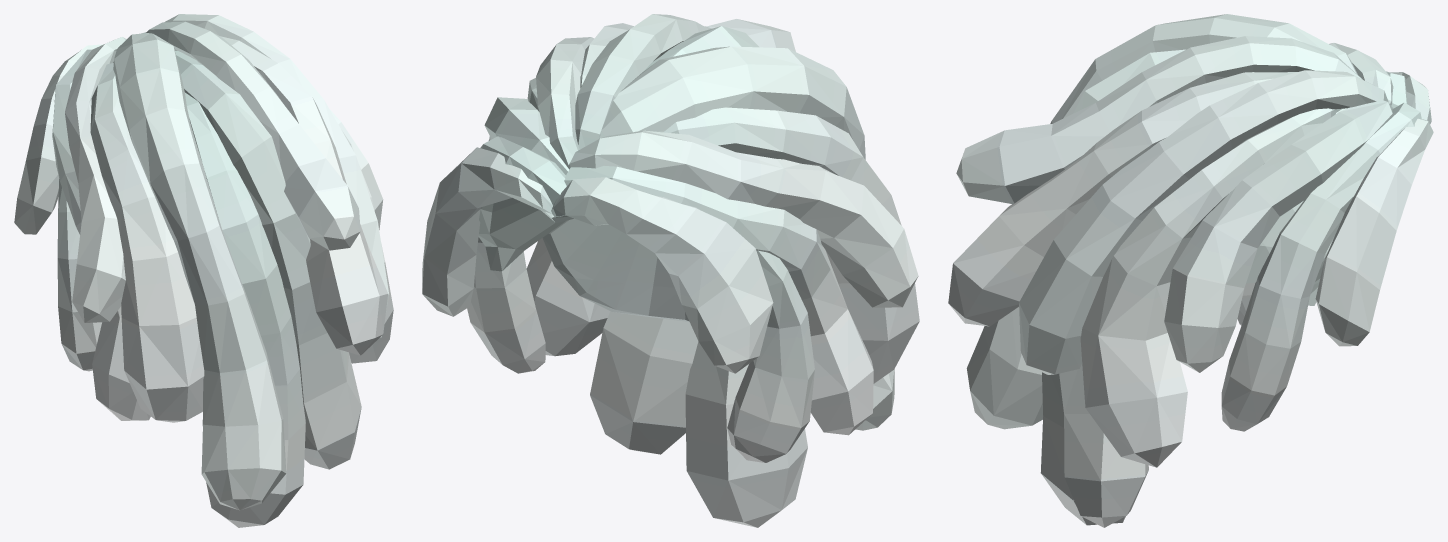
The model's file is CharSkyKid_Hair_Dreads.glb.
3 renders of one model, left to right at view 1: azimuth 30°, elevation 25°; view 2: azimuth 150°, elevation 25°; view 3: azimuth 270°, elevation 25°, orthographic. The views are drawn at different scales.
Visible parts, largest first — view 1: CharSkyKid_Hair_Dreads; view 2: CharSkyKid_Hair_Dreads; view 3: CharSkyKid_Hair_Dreads.
Boxes of the visible parts, x1,y1,x2,y2 form: CharSkyKid_Hair_Dreads: (14, 14, 393, 527); CharSkyKid_Hair_Dreads: (422, 14, 919, 527); CharSkyKid_Hair_Dreads: (948, 14, 1433, 527).
Size of the model in its own units: 3.42 by 4.43 by 3.95.
1 material, 1 textured.
